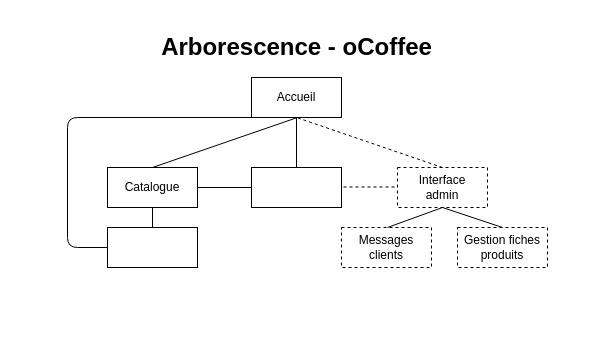
Image size: 605x340. Some labels were removed from this diagram. The shapes that lost their labels are listed below. From the top down, each one's centre as x and y in pixels, then its label:
point 296,187: Boutique
point 152,247: Fiches produits
